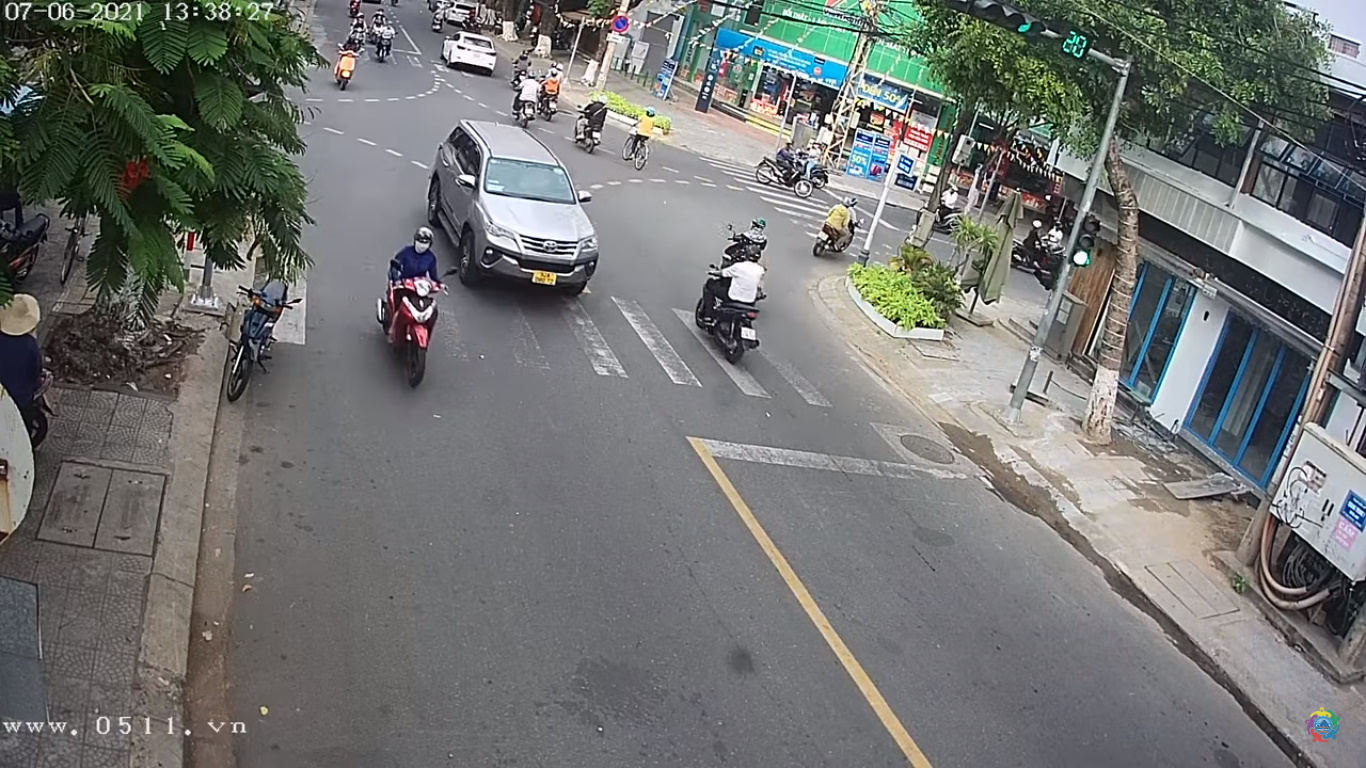car: (434, 117, 600, 300)
